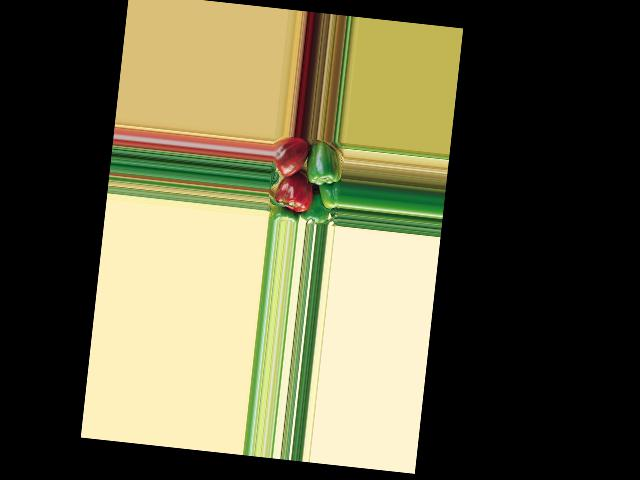bell_pepper: (272, 135, 307, 178)
